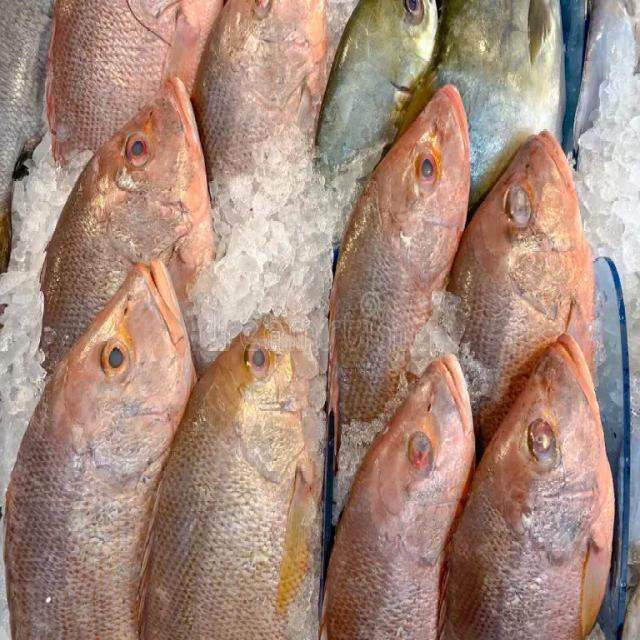Red Snapper: (4, 256, 199, 639)
